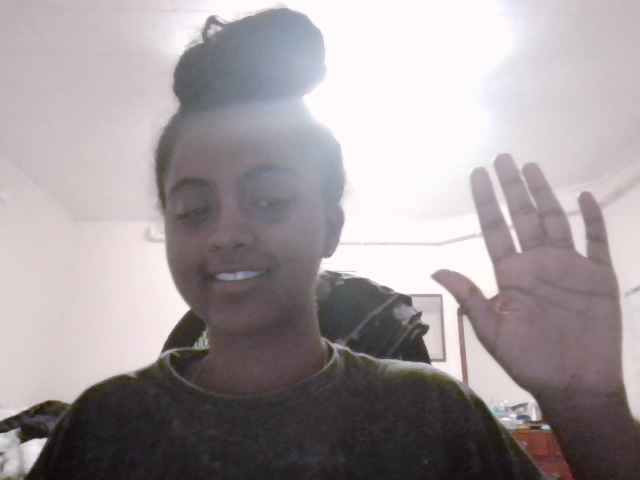hello: (420, 155, 637, 403)
